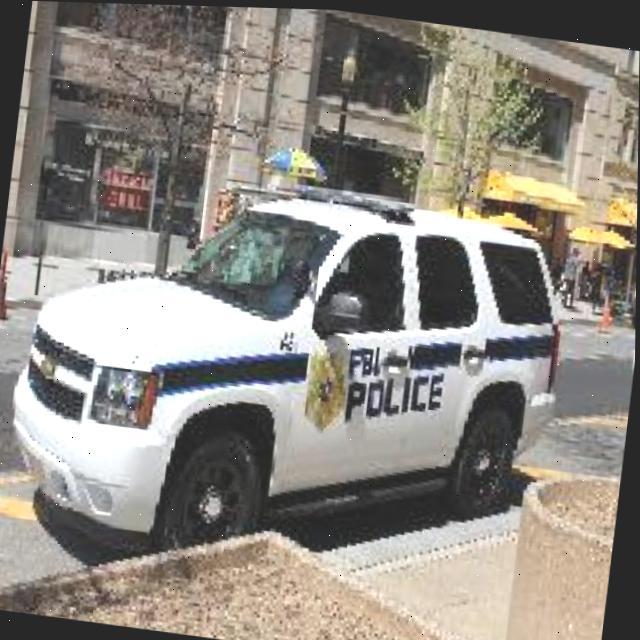emergency: (0, 145, 582, 606)
